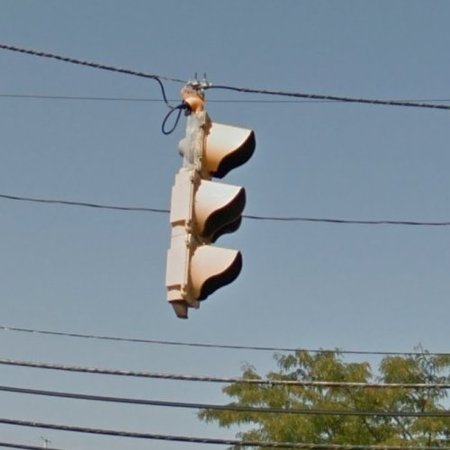紅綠燈: (219, 62, 376, 338)
